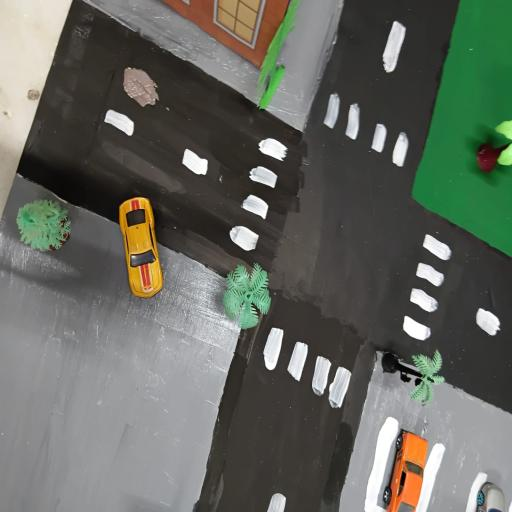car crash: (118, 190, 171, 303)
